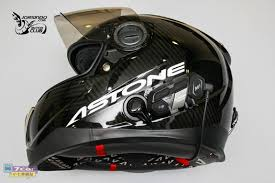helmet: (40, 21, 238, 157)
